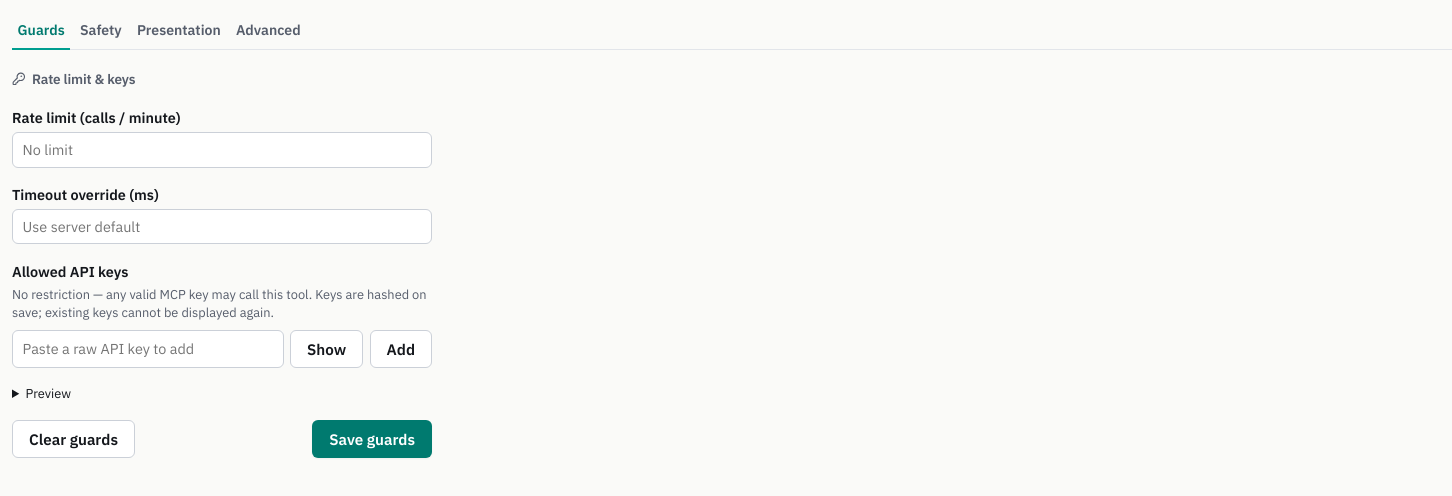
Test: GuardEditor › flags a non-positive timeout as invalid and disables Save
The image size is (1452, 496).
In the field with id "timeout": coordinates (222, 227) x1=12 y1=209 x2=432 y2=244, type "-100"
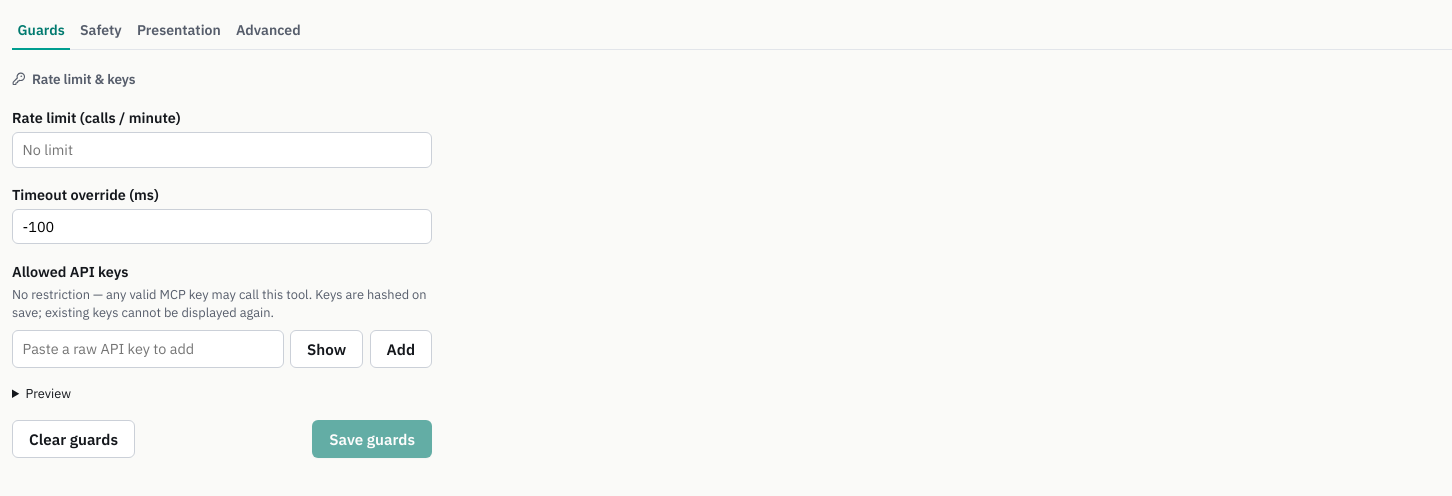
Leave the field with id "timeout", box x1=12 y1=209 x2=432 y2=244
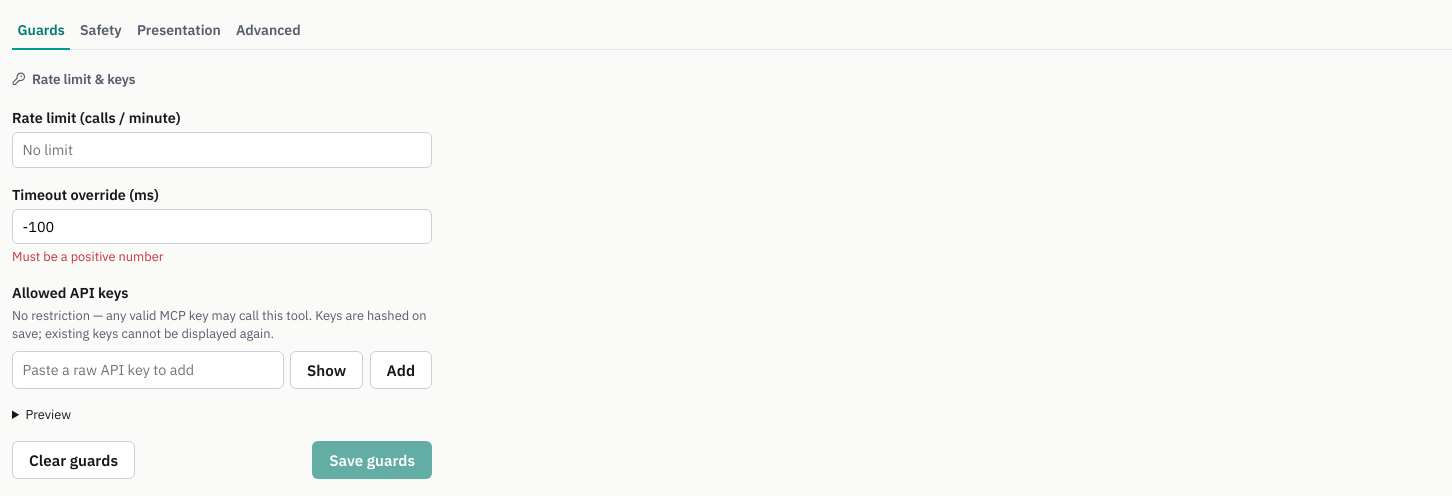
Check: the submit button is disabled, box x1=312 y1=441 x2=432 y2=479
Check: the message with class "field-error" reads "Must be a positive number", box x1=12 y1=248 x2=164 y2=265
